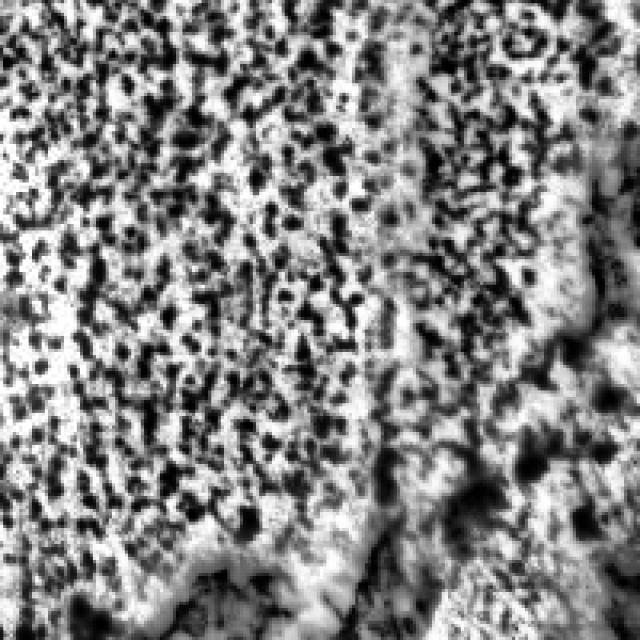Rolled_in_Scale: (0, 0, 585, 486)
Scratches: (324, 474, 486, 636), (554, 144, 636, 365), (115, 550, 301, 637)
